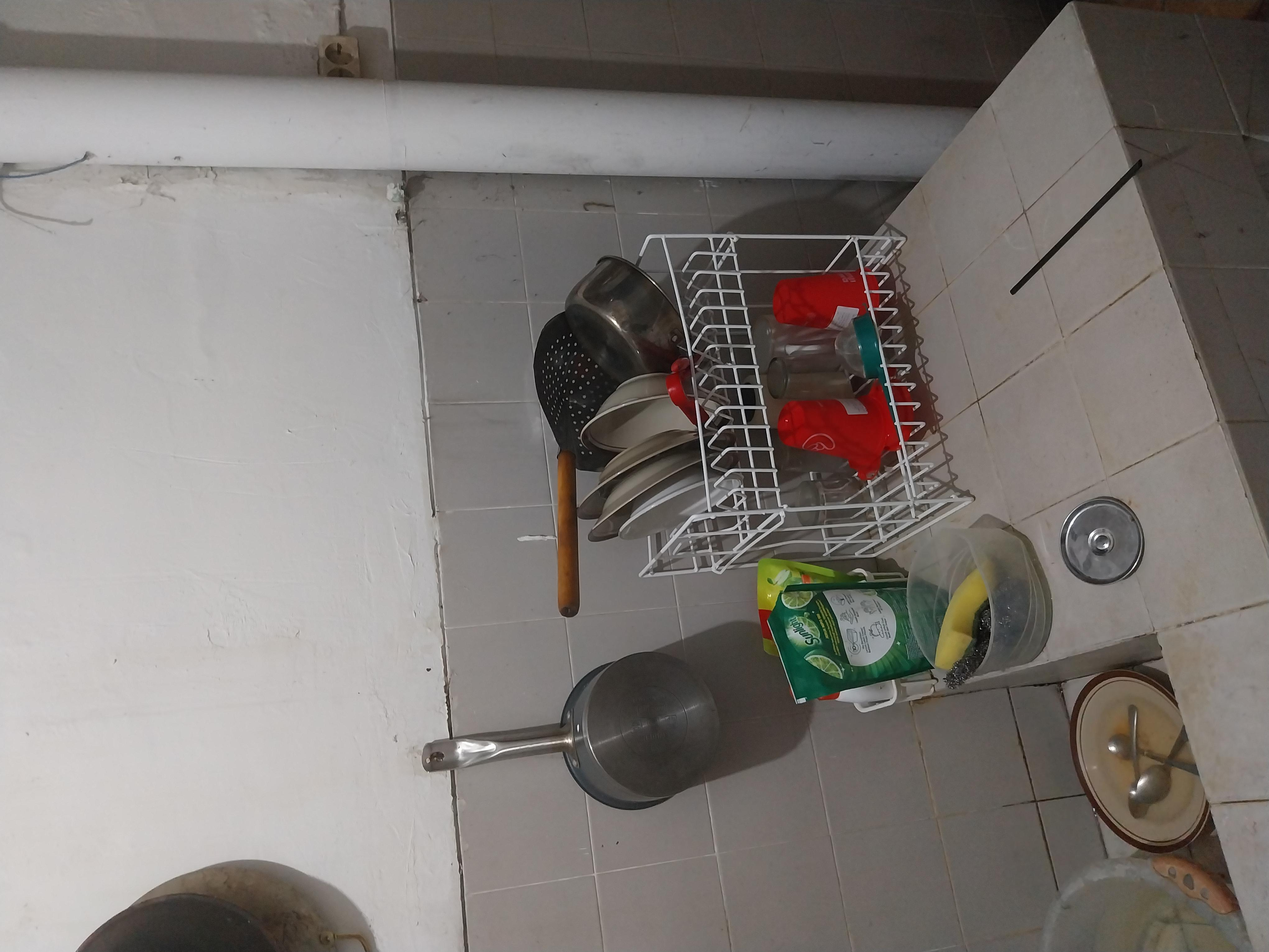pan: (94, 311, 427, 557), (0, 57, 79, 213)
plate: (108, 790, 394, 913), (567, 422, 724, 527), (534, 429, 694, 529), (522, 459, 668, 556), (575, 441, 685, 528), (654, 431, 754, 518)
